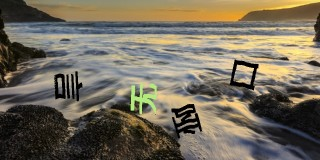口: (230, 58, 258, 90)
哑: (171, 105, 203, 137)
无: (128, 83, 159, 116)
言: (52, 70, 84, 104)
